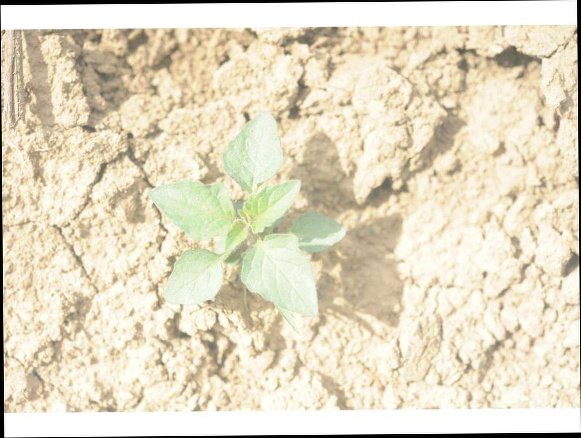nightshade: (148, 110, 345, 318)
